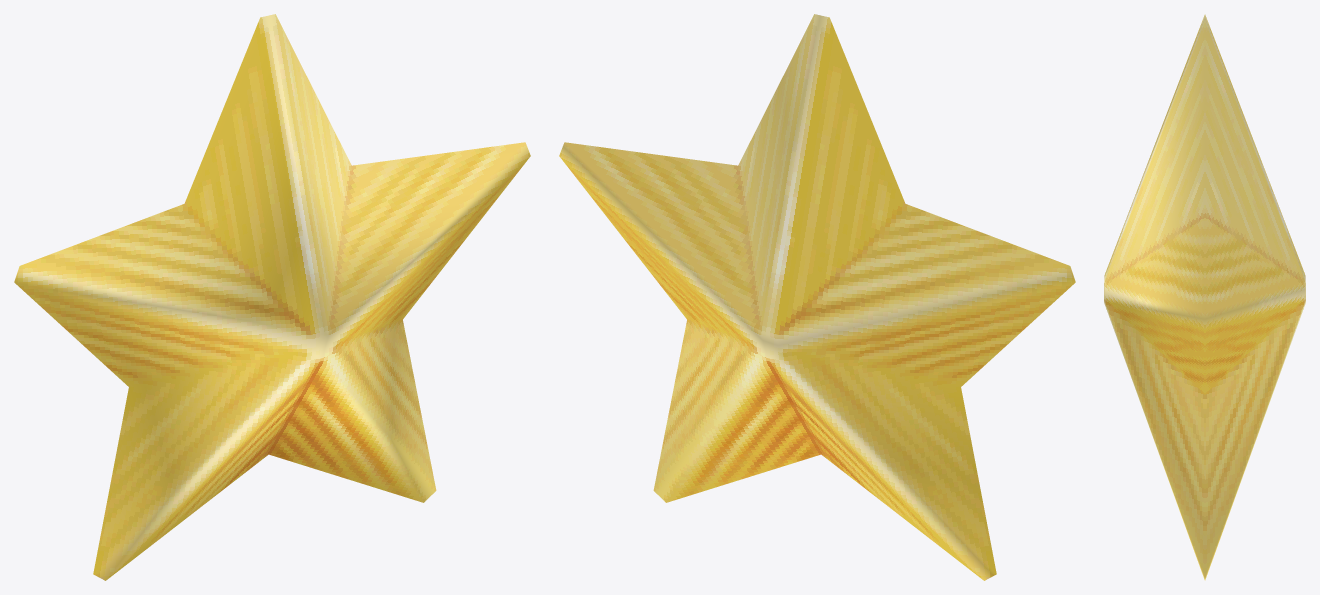
The model's file is ps2_save-icons_armymenrts.glb.
The picture shows the model from 3 angles, left to right: view 1: azimuth 30°, elevation 25°; view 2: azimuth 150°, elevation 25°; view 3: azimuth 270°, elevation 25°; orthographic projection. The views are drawn at different scales.
Parts seen in each view (by area): view 1: userdata.ico; view 2: userdata.ico; view 3: userdata.ico.
Boxes of the visible parts, x1,y1,x2,y2 form: userdata.ico: (14,14,530,580); userdata.ico: (559,14,1075,580); userdata.ico: (1104,14,1305,580).
Bounding box in the file's own units: 4.84 × 4.7 × 1.75.
Materials: 1 (1 with a texture image).
